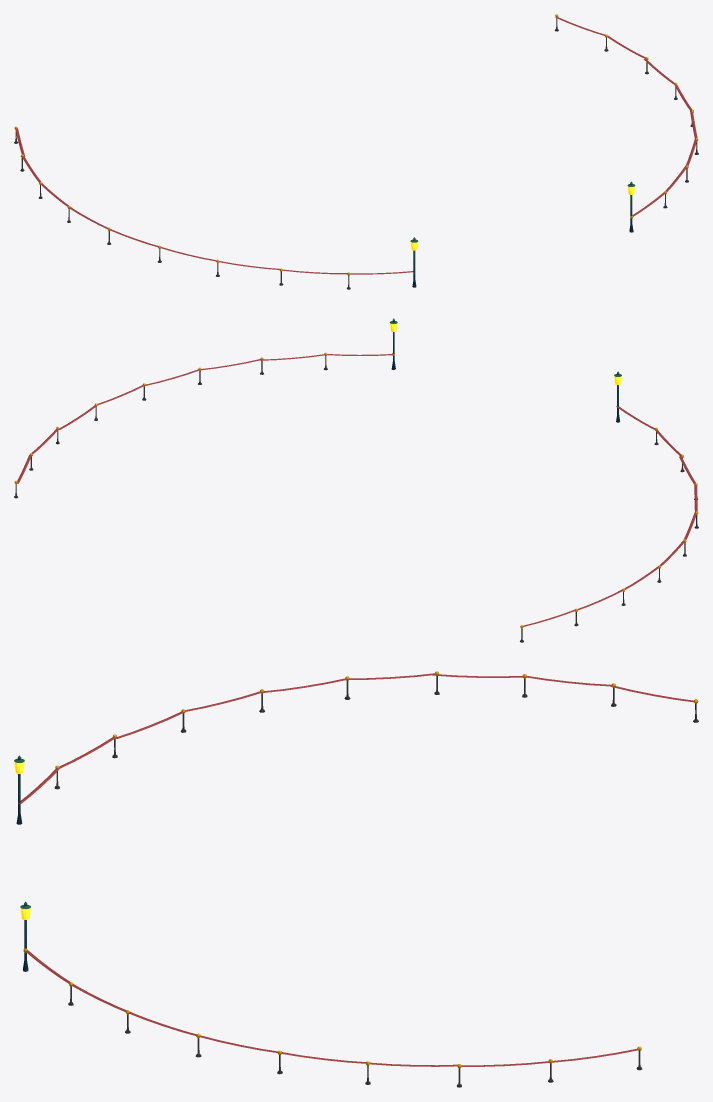
The model's file is fence.glb.
3 views of the same model, one above another, from view 1: azimuth 30°, elevation 25°; view 2: azimuth 150°, elevation 25°; view 3: azimuth 270°, elevation 25° (orthographic). The views are drawn at different scales.
Visible parts, largest first — view 1: Object_2.031; view 2: Object_2.031; view 3: Object_2.031.
Boxes of the visible parts, x1,y1,x2,y2 form: Object_2.031: (14, 14, 698, 289); Object_2.031: (14, 318, 698, 642); Object_2.031: (14, 671, 698, 1087).
Size of the model in its own units: 13.04 by 1.07 by 9.56.
73 materials, 2 textured.
